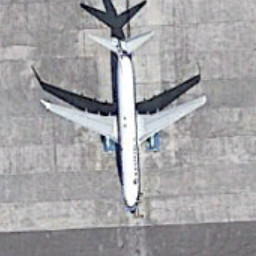Airplane: (32, 26, 218, 227)
